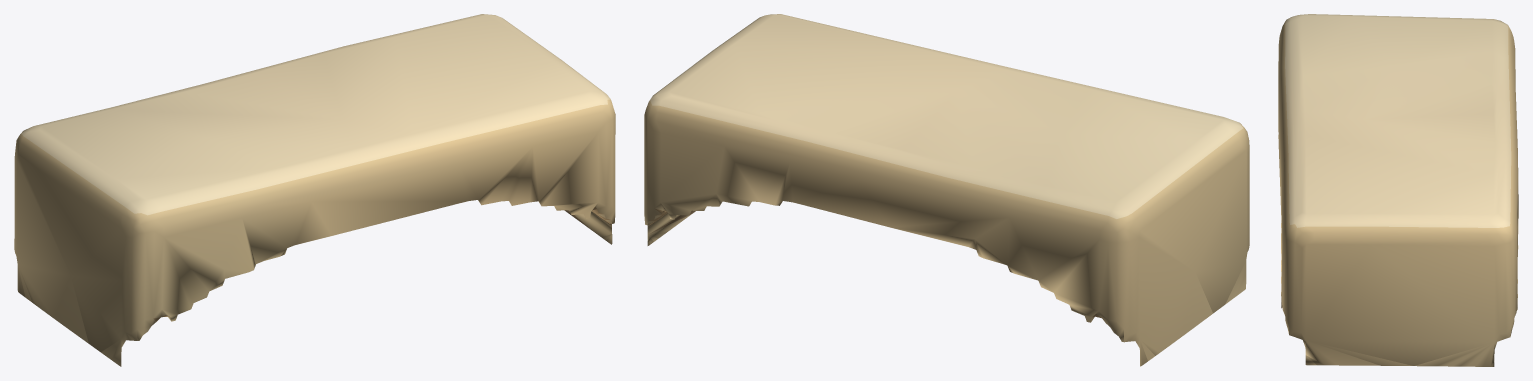
The model's file is shore_castle_arch_lod1.glb.
3 views of the same model, side by side, from view 1: azimuth 30°, elevation 25°; view 2: azimuth 150°, elevation 25°; view 3: azimuth 270°, elevation 25° (orthographic). The views are drawn at different scales.
Parts seen in each view (by area): view 1: shore_castle_arch.001; view 2: shore_castle_arch.001; view 3: shore_castle_arch.001.
Part boxes in pixels (x1,y1,x2,y2): shore_castle_arch.001: (14,14,615,366); shore_castle_arch.001: (644,14,1249,366); shore_castle_arch.001: (1278,14,1518,366).
Bounding box in the file's own units: 6.46 × 2.06 × 3.04.
